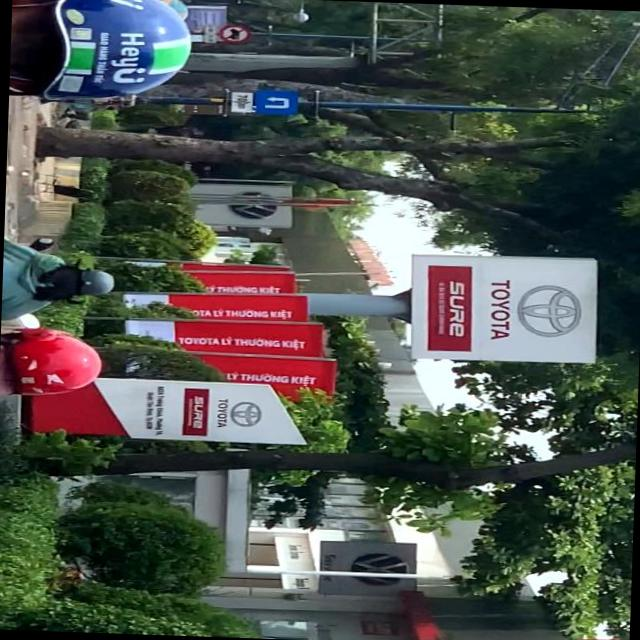I-409: (254, 90, 299, 114)
